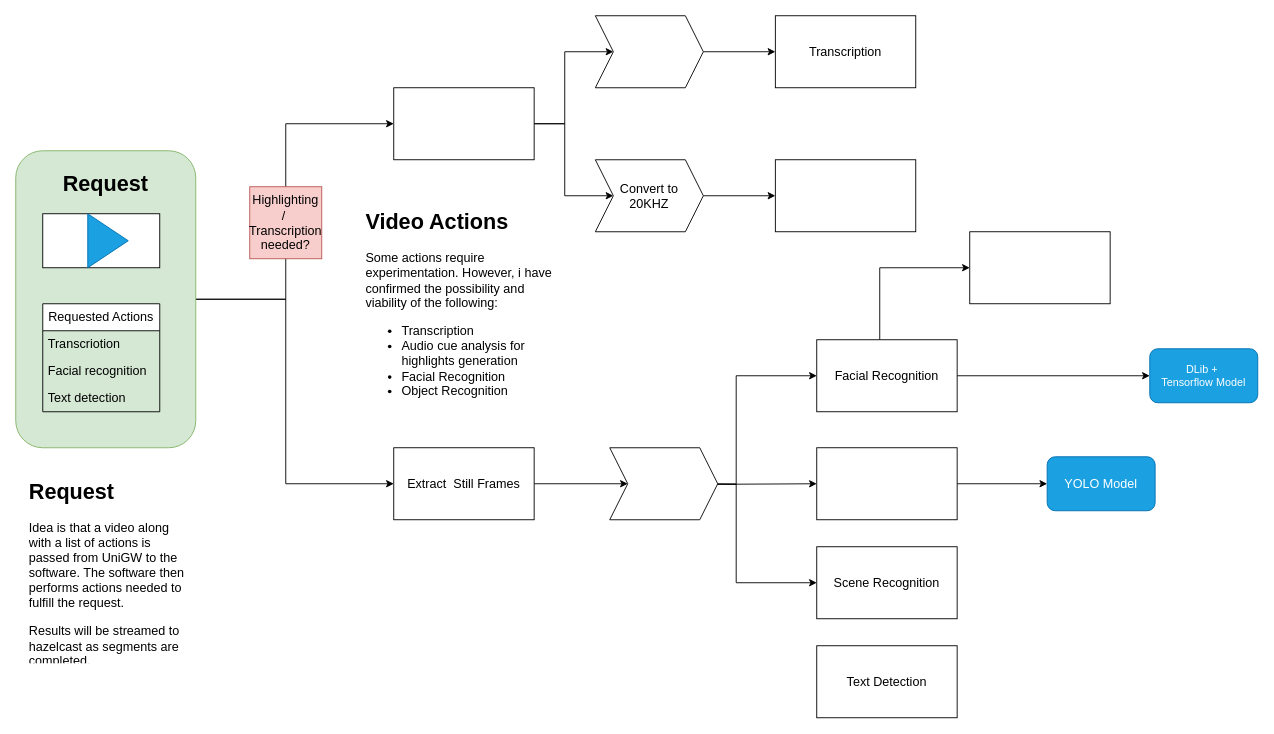
The diagram is 1274 pixels wide and 734 high, and some of its shapes have lost their labels. Here are the shapes that lost their labels. From the top down, the centre of each, then its label:
[648,51]: Convert to 16KHZ
[463,123]: Extract Audio
[845,195]: Audio cue analysis for highlighting
[1039,267]: Emotion Recognition
[663,483]: Image dimension alteration
[886,483]: Object Recognition
